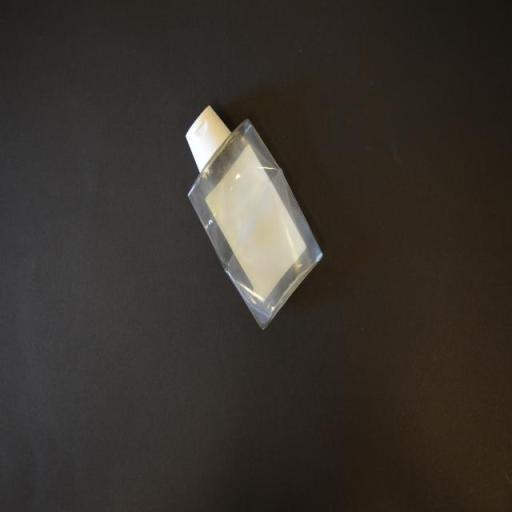plastic: (185, 102, 324, 328)
